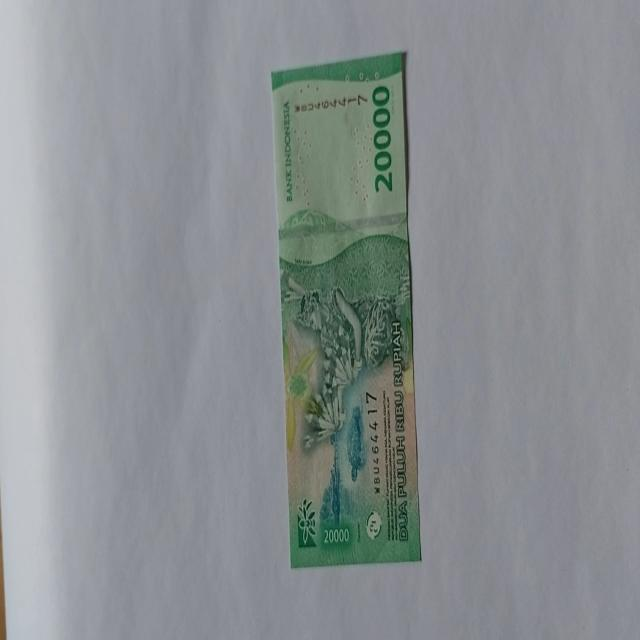dua puluh ribu rupiah: (269, 51, 421, 566), (278, 207, 412, 453)
